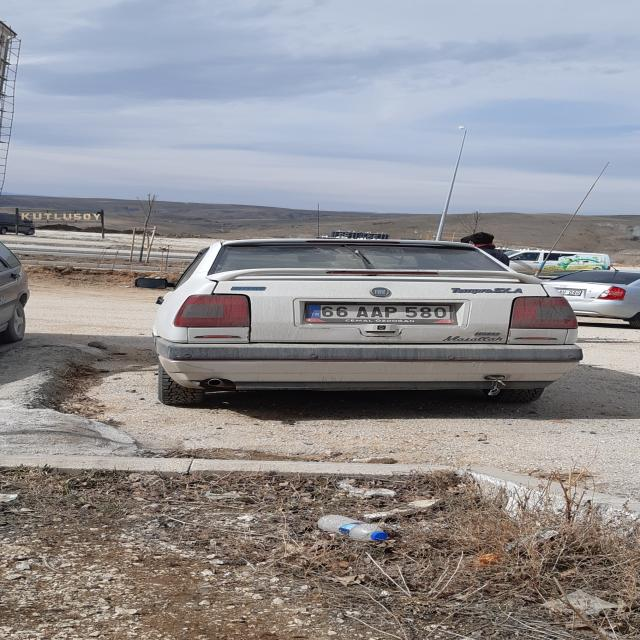plate: (305, 304, 452, 320)
